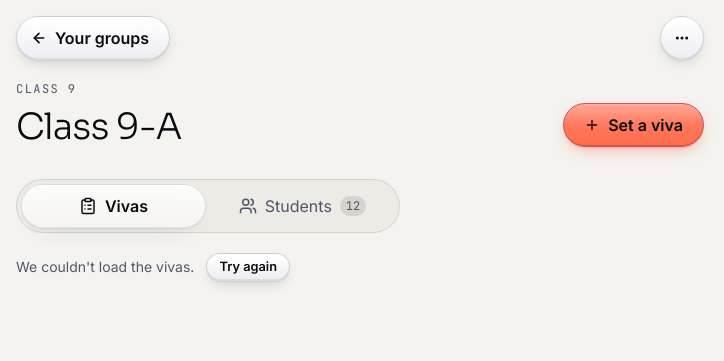
Test: the vivas on a teacher's group page › a failed load offers a retry
What coordinates should you click on to do the following:
click the button "Try again"
I would click on:
 (248, 267)
Its box is x1=206 y1=253 x2=290 y2=281.
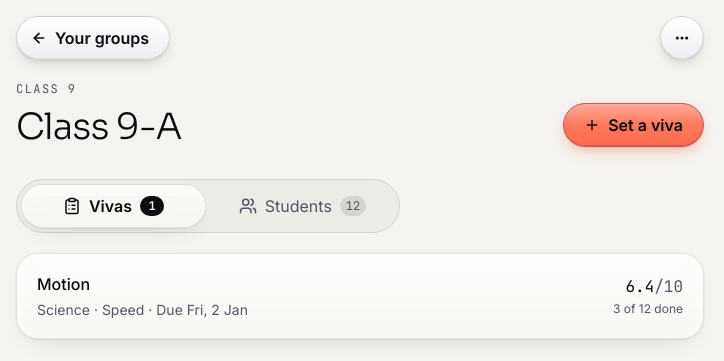
Expected: the link "Motion Science · Speed · Due Fri, 2 Jan 6.4/10 3 of 12 done" is shown, x1=23 y1=260 x2=697 y2=332
